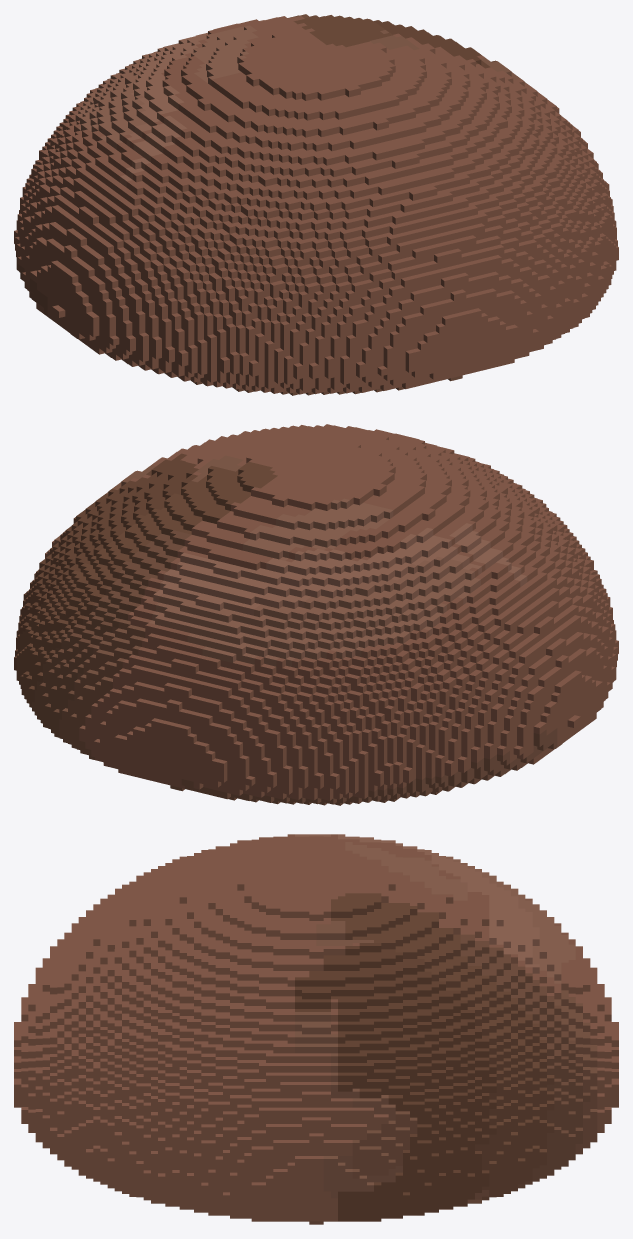
File: spring_head.FBX
The picture shows the model from 3 angles, top to bottom: view 1: azimuth 30°, elevation 25°; view 2: azimuth 150°, elevation 25°; view 3: azimuth 270°, elevation 25°; orthographic projection. The views are drawn at different scales.
Parts seen in each view (by area): view 1: default040; view 2: default040; view 3: default040.
Boxes of the visible parts, x1,y1,x2,y2 form: default040: [14, 14, 618, 395]; default040: [14, 424, 618, 805]; default040: [14, 834, 618, 1224].
Bounding box in the file's own units: 1486 × 647 × 1468.
